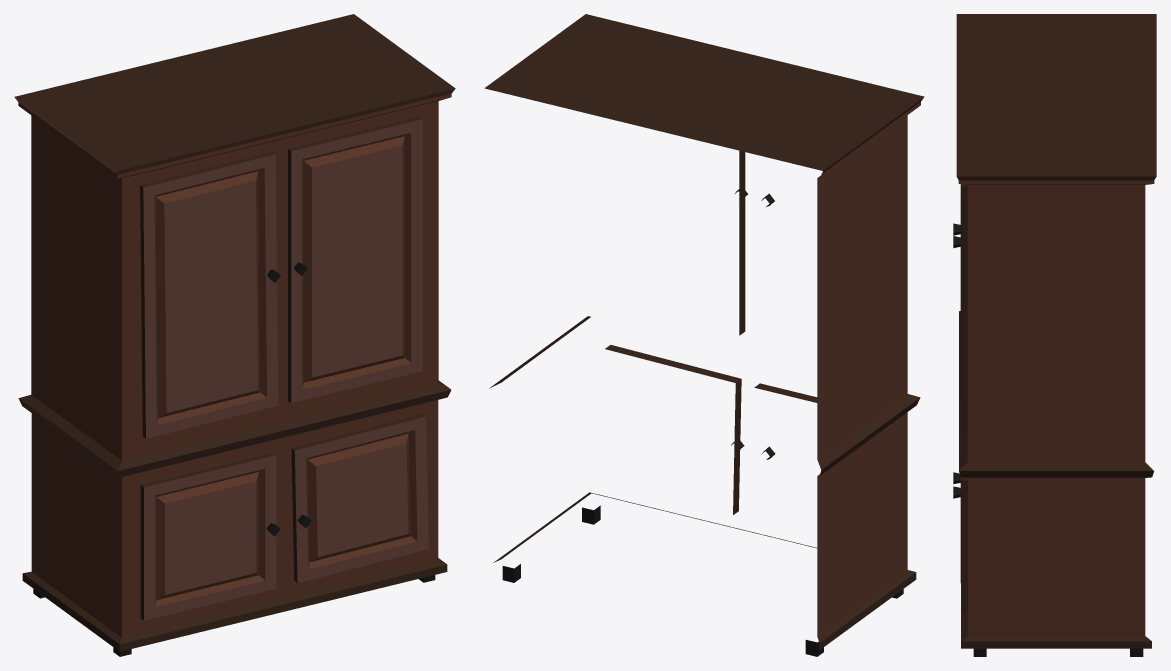
File: ChurchSmallCloset.glb
3 renders of one model, left to right at view 1: azimuth 30°, elevation 25°; view 2: azimuth 150°, elevation 25°; view 3: azimuth 270°, elevation 25°, orthographic.
Visible parts, largest first — view 1: ChurchCloset1; view 2: ChurchCloset1; view 3: ChurchCloset1.
Boxes of the visible parts, x1,y1,x2,y2 form: ChurchCloset1: (14, 14, 455, 656); ChurchCloset1: (484, 14, 924, 656); ChurchCloset1: (953, 14, 1156, 656).
Bounding box in the file's own units: 1.4 × 1.96 × 0.7409.
Materials: 1 (1 with a texture image).
